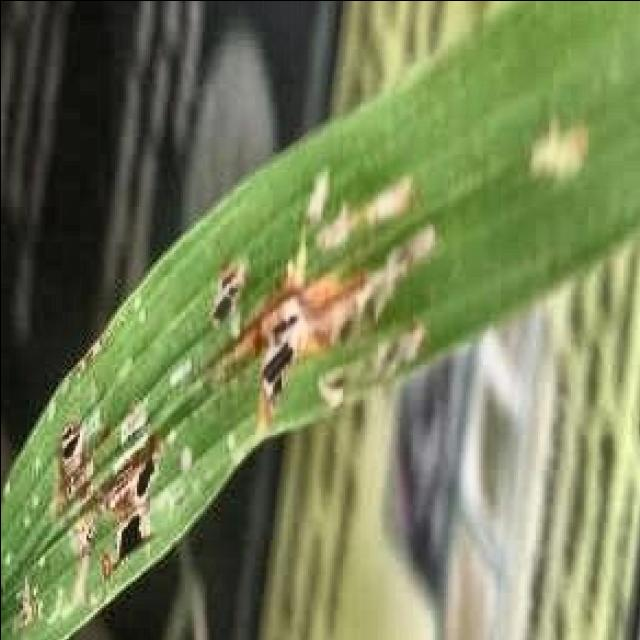Leaf_Blast: (498, 107, 598, 204)
